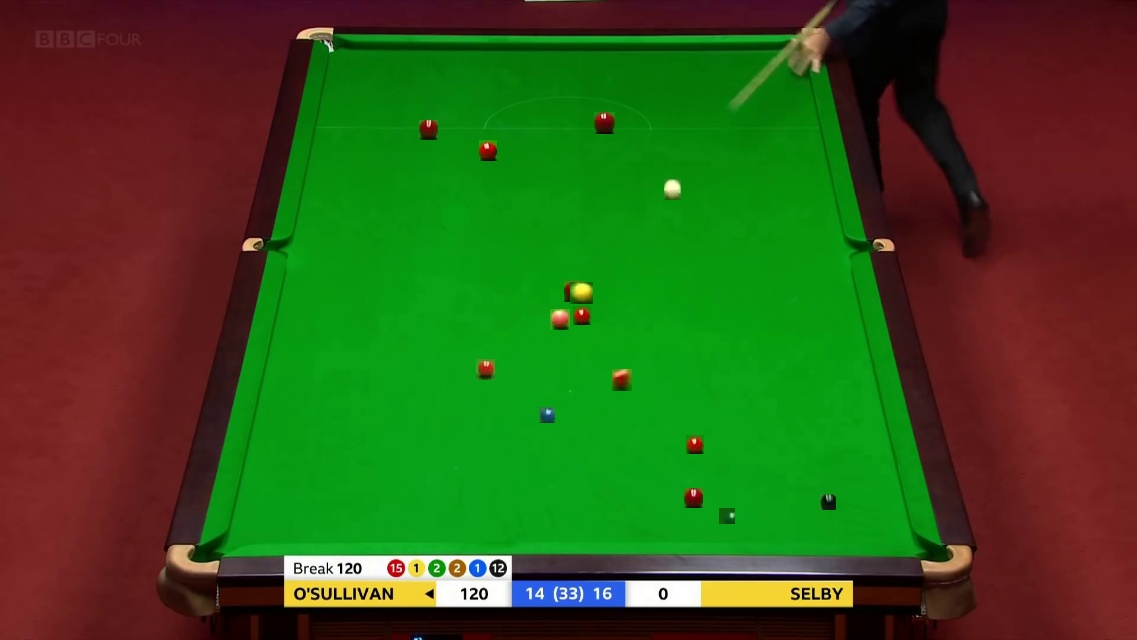black: (820, 494, 836, 510)
blue: (539, 407, 555, 423)
brown: (594, 112, 616, 133)
green: (719, 508, 735, 524)
pink: (550, 309, 571, 329)
red: (564, 281, 585, 302), (612, 369, 634, 389), (476, 359, 497, 378), (419, 120, 439, 139), (684, 488, 704, 507), (479, 140, 500, 158), (686, 435, 705, 453), (573, 306, 592, 324)
white: (664, 179, 685, 196)
yellow: (570, 282, 592, 305)
